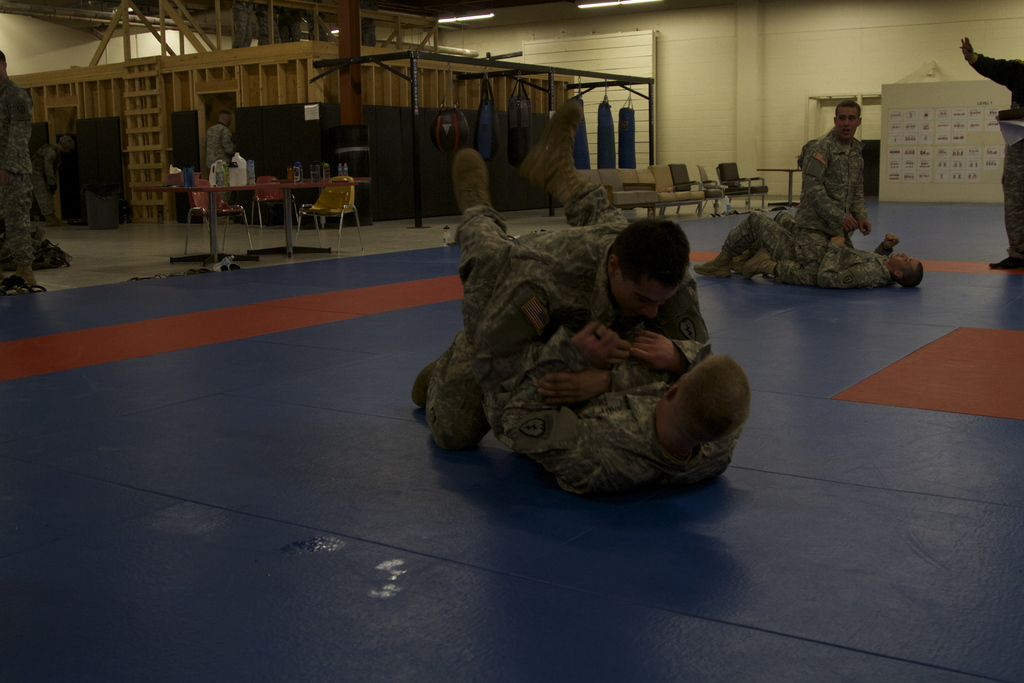Person: (411, 95, 752, 506), (695, 100, 922, 290), (959, 36, 1024, 268), (0, 53, 36, 290), (29, 134, 74, 228), (199, 108, 235, 224)
